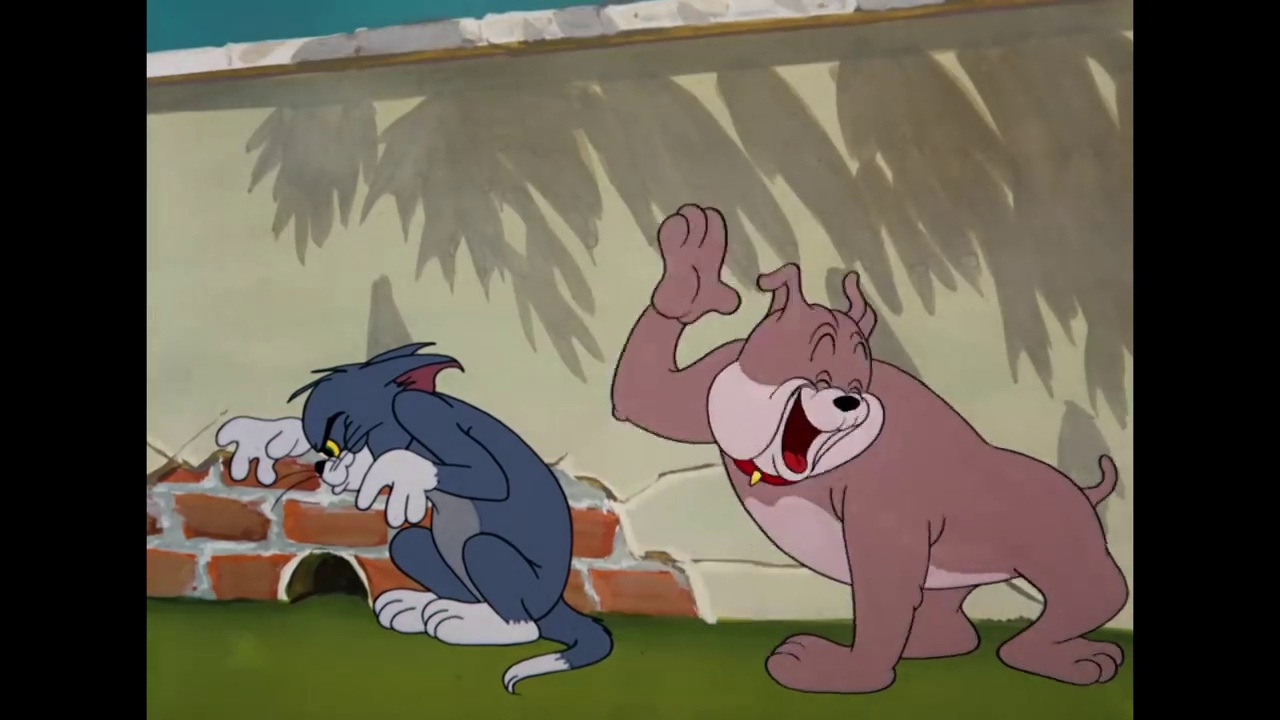spike: (705, 259, 888, 485)
tom: (286, 338, 471, 499)
